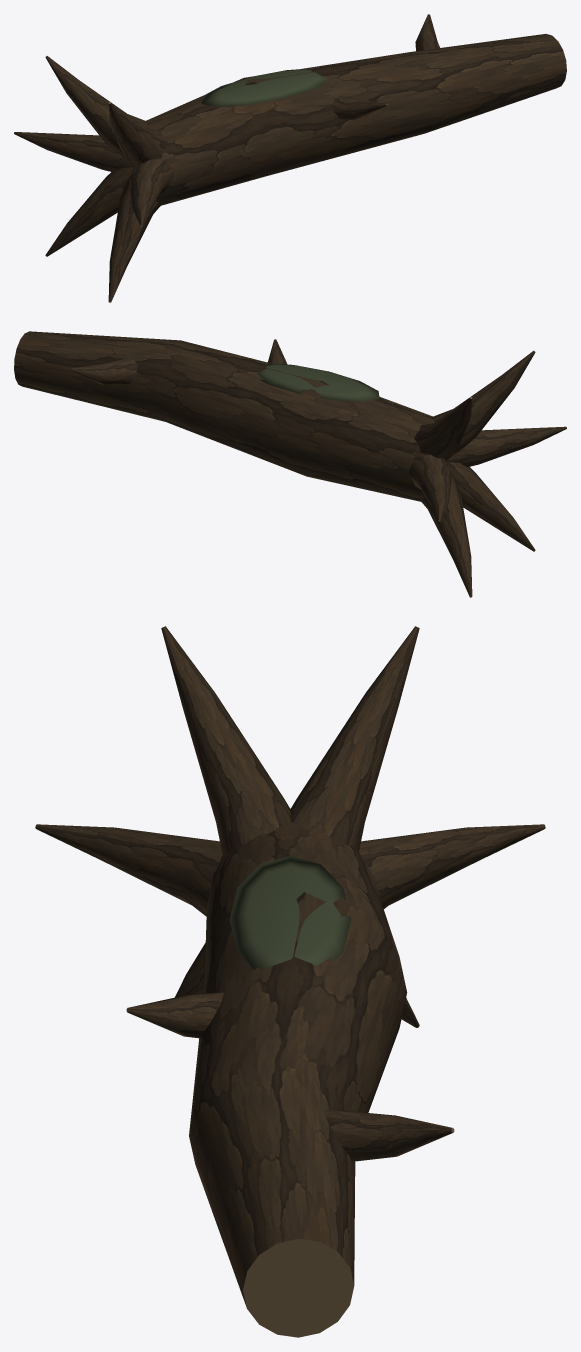
3 views of the same model, one above another, from view 1: azimuth 30°, elevation 25°; view 2: azimuth 150°, elevation 25°; view 3: azimuth 270°, elevation 25° (orthographic). The views are drawn at different scales.
Visible parts, largest first — view 1: Waterworn trunk, Low moss patch, Exposed branching root.005, Exposed branching root, Exposed branching root.004, Exposed branching root.001, Exposed branching root.002, Exposed branching root.003, Snapped branch, Snapped branch.001; view 2: Waterworn trunk, Low moss patch, Exposed branching root.004, Exposed branching root.003, Exposed branching root.005, Exposed branching root.002, Exposed branching root.001, Exposed branching root, Snapped branch.001; view 3: Waterworn trunk, Exposed branching root.002, Exposed branching root.001, Low moss patch, Exposed branching root.003, Exposed branching root, Snapped branch.001, Snapped branch.
Boxes of the visible parts, <box> form: Waterworn trunk: <box>145,34,566,205</box>; Low moss patch: <box>201,69,326,107</box>; Exposed branching root.005: <box>45,167,134,256</box>; Exposed branching root: <box>14,132,134,172</box>; Exposed branching root.004: <box>108,175,161,302</box>; Exposed branching root.001: <box>45,56,148,159</box>; Exposed branching root.002: <box>108,102,168,165</box>; Exposed branching root.003: <box>129,159,174,226</box>; Snapped branch: <box>332,95,387,119</box>; Snapped branch.001: <box>415,14,439,51</box>; Waterworn trunk: <box>14,331,434,501</box>; Low moss patch: <box>257,363,379,401</box>; Exposed branching root.004: <box>446,462,535,551</box>; Exposed branching root.003: <box>446,426,566,467</box>; Exposed branching root.005: <box>420,470,472,597</box>; Exposed branching root.002: <box>431,350,535,453</box>; Exposed branching root.001: <box>414,397,472,460</box>; Exposed branching root: <box>408,454,451,521</box>; Snapped branch.001: <box>70,357,137,384</box>; Waterworn trunk: <box>189,822,407,1337</box>; Exposed branching root.002: <box>161,626,290,856</box>; Exposed branching root.001: <box>290,626,419,852</box>; Low moss patch: <box>229,855,351,969</box>; Exposed branching root.003: <box>35,824,222,916</box>; Exposed branching root: <box>359,824,545,908</box>; Snapped branch.001: <box>322,1110,454,1161</box>; Snapped branch: <box>126,992,224,1038</box>.
Size of the model in its own units: 10.87 by 4.36 by 5.02.
3 materials, 1 textured.
